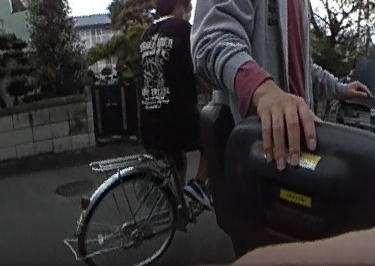person: (135, 0, 206, 215)
